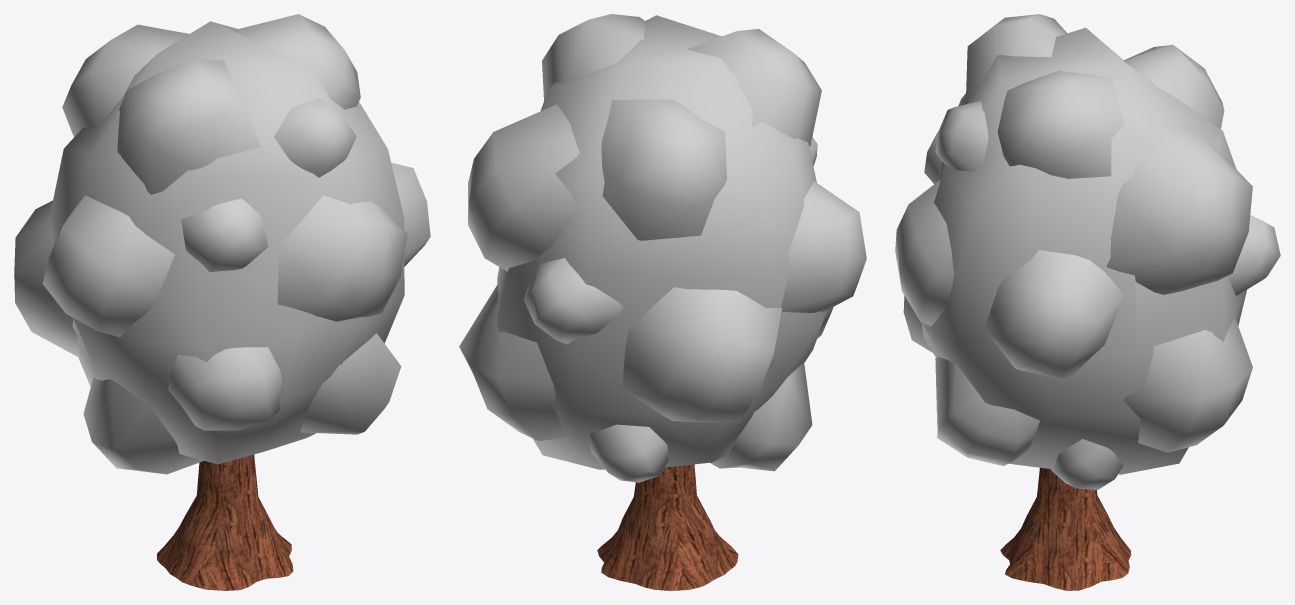
The model's file is tree.fbx.
The picture shows the model from 3 angles, left to right: view 1: azimuth 30°, elevation 25°; view 2: azimuth 150°, elevation 25°; view 3: azimuth 270°, elevation 25°; orthographic projection. The views are drawn at different scales.
Visible parts, largest first — view 1: Tree01_Cylinder, Tree01_Cylinder001; view 2: Tree01_Cylinder, Tree01_Cylinder001; view 3: Tree01_Cylinder, Tree01_Cylinder001.
Boxes of the visible parts, box(x1,y1,x2,y2) form: Tree01_Cylinder: box(14, 14, 430, 474); Tree01_Cylinder001: box(157, 454, 293, 590); Tree01_Cylinder: box(459, 14, 866, 482); Tree01_Cylinder001: box(597, 464, 738, 590); Tree01_Cylinder: box(895, 14, 1280, 489); Tree01_Cylinder001: box(1000, 467, 1131, 590).
Bounding box in the file's own units: 3.57 × 4.89 × 3.31.
